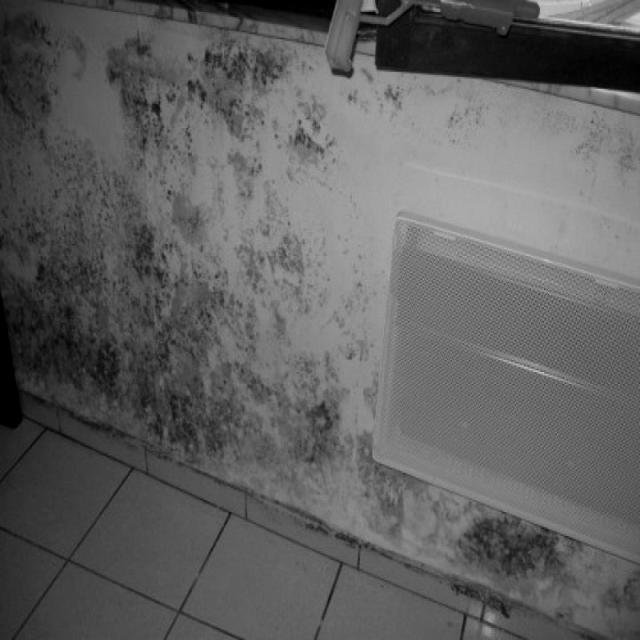stain marks: (1, 0, 418, 560)
